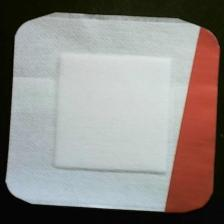Dressing: (3, 12, 222, 217)
Red_T: (164, 18, 223, 219)
